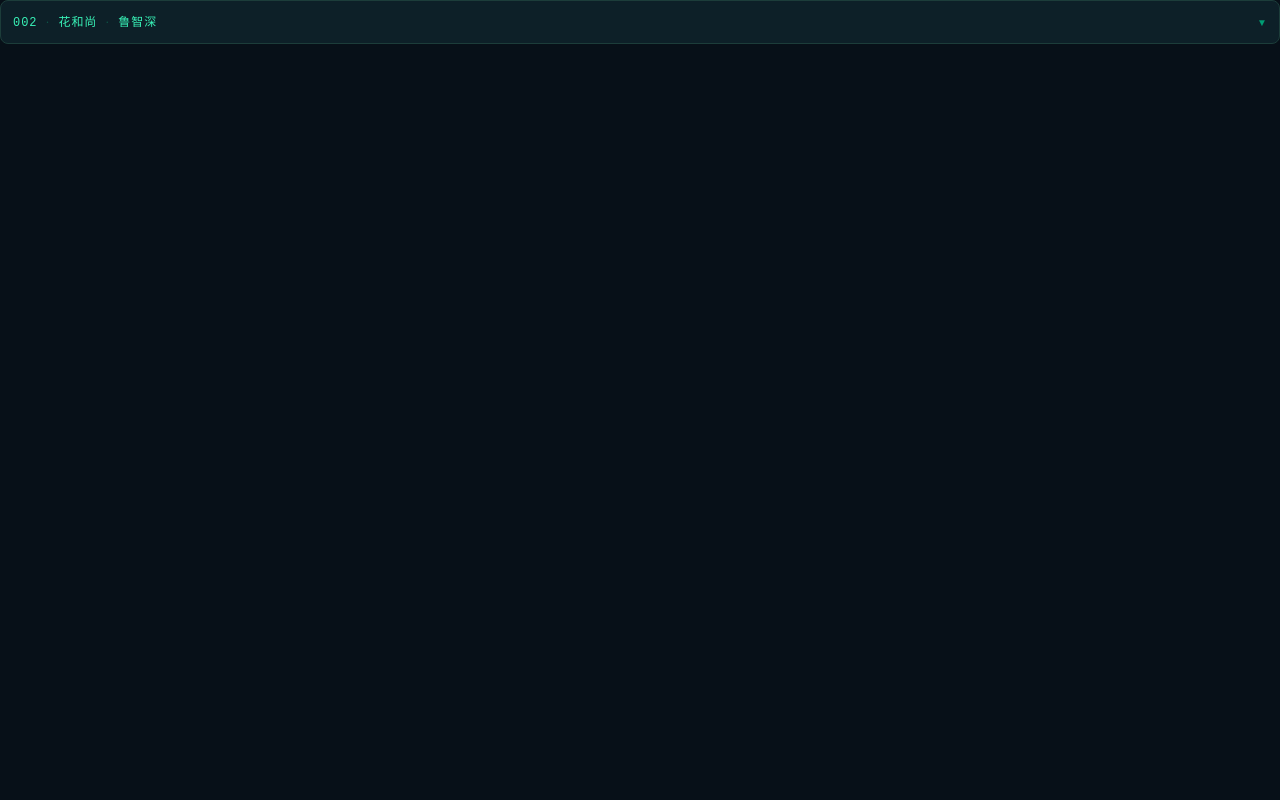
Test case: CharacterListbox keyboard interaction › 移动端打开后使用全屏选择面板
The width and height of the screenshot is (1280, 800).
Click the button with aria-label "选择卡片".
click(78, 22)  # box [0,0,1279,44]
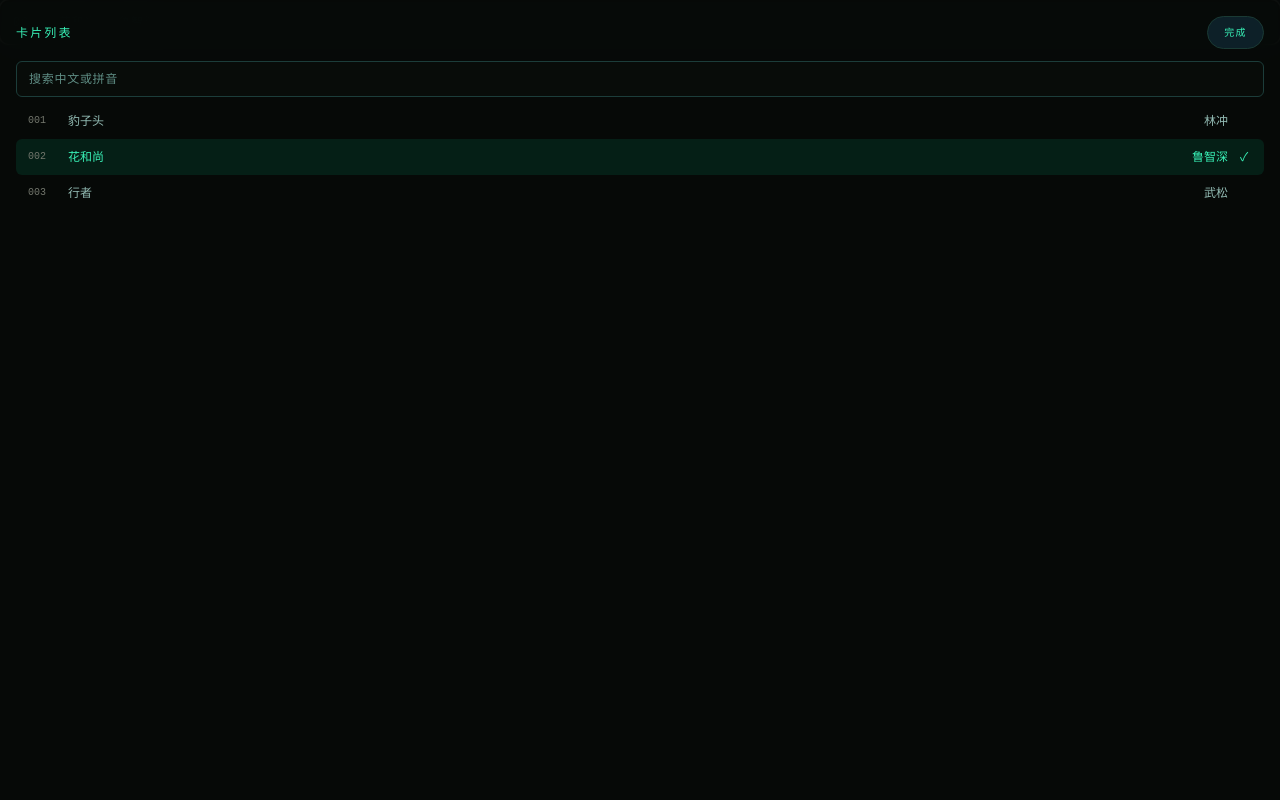
Click the button "完成".
click(1236, 32)  # box [1207,16,1264,49]
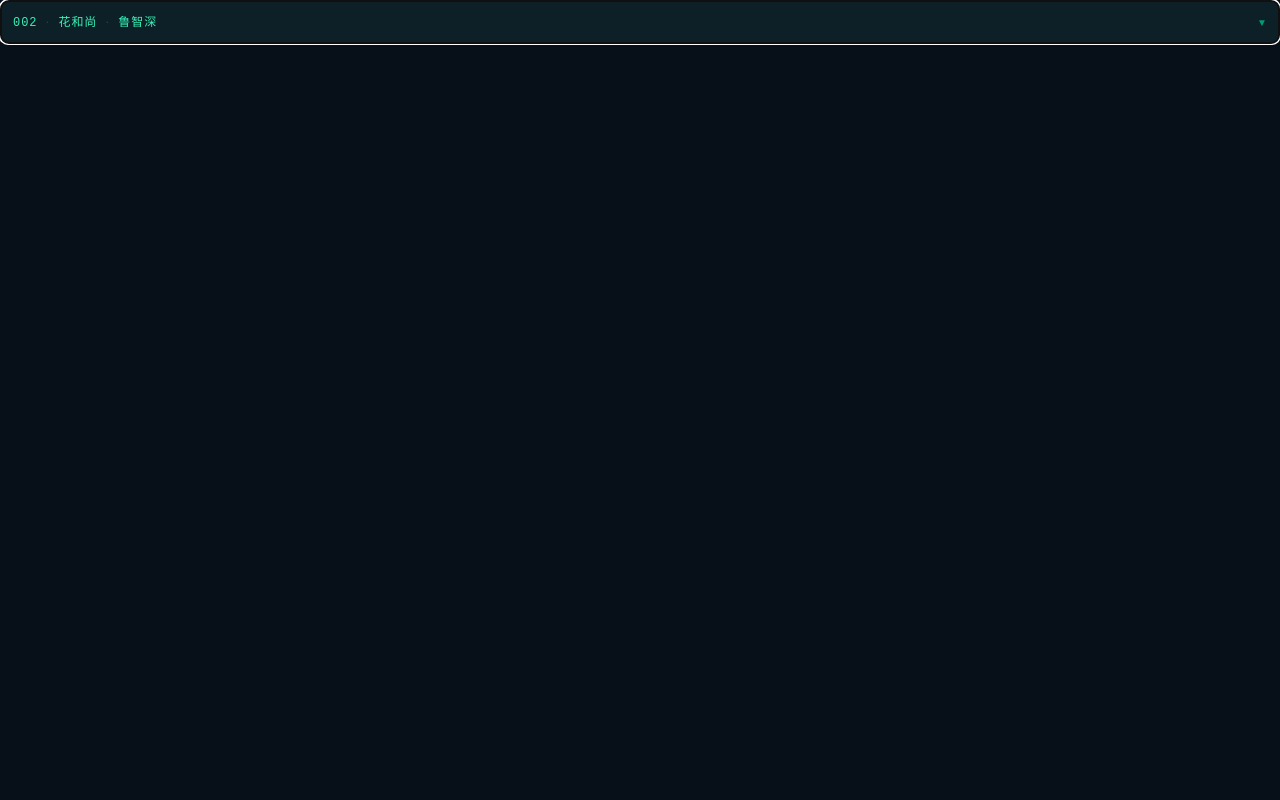
Expected: the list is gone
